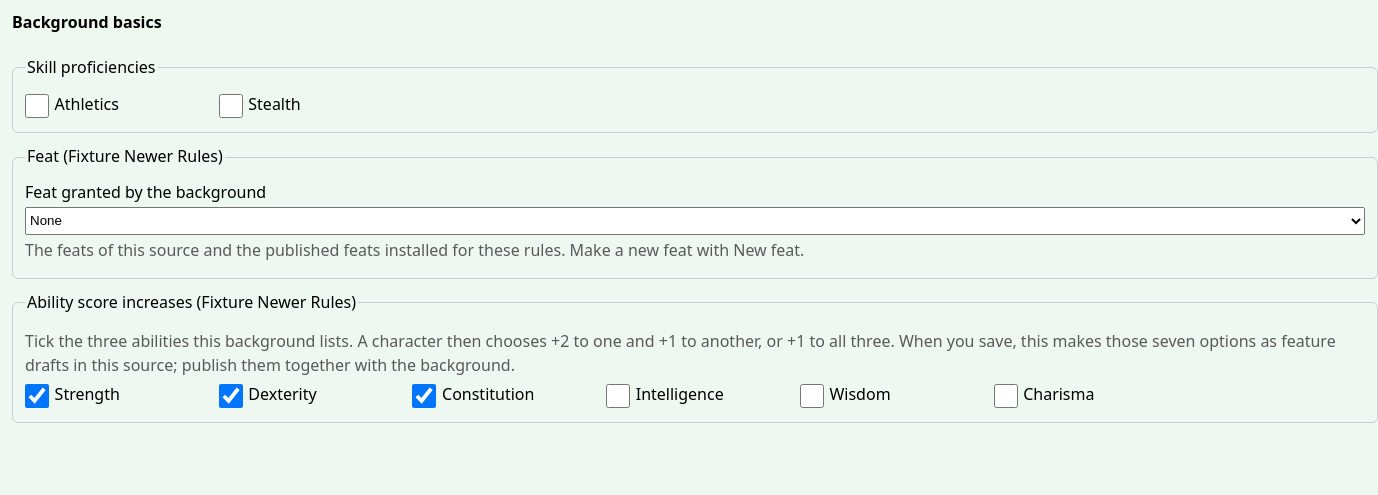
Scenario: R63: picking other abilities makes the new options and says how many old ones stay behind
Click the checkbox labelled "Constitution" at (424, 396), box [412, 384, 436, 408]
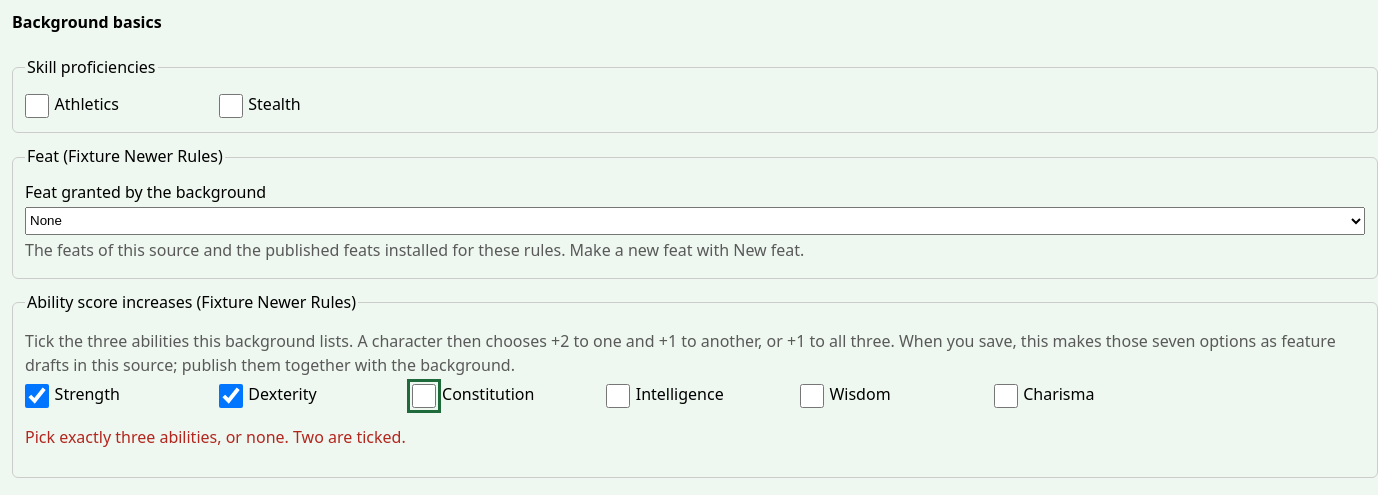
Click the checkbox labelled "Wisdom" at (812, 396), box [800, 384, 824, 408]
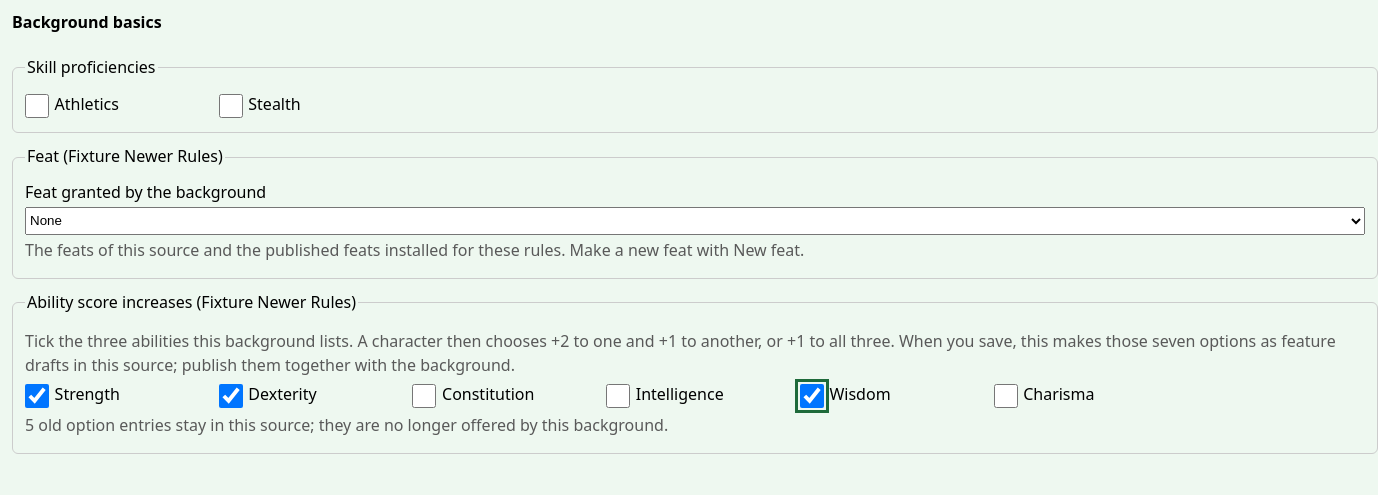
Result: the text "5 old option entries stay in this source; they are no longer offered by this background." is shown at [25, 414, 668, 436]
